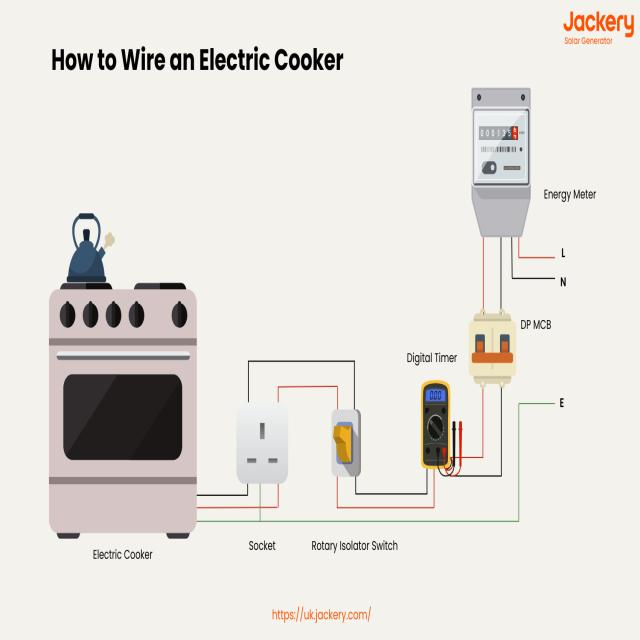appliances: (49, 283, 196, 537), (67, 213, 114, 281)
electronics: (472, 89, 530, 236), (236, 402, 288, 483), (474, 110, 528, 185), (468, 309, 515, 387), (421, 380, 450, 468), (331, 409, 361, 476), (563, 11, 633, 37), (199, 46, 270, 71), (274, 48, 323, 71), (333, 422, 353, 464), (407, 352, 457, 364), (323, 53, 343, 71), (565, 37, 611, 44), (267, 56, 268, 59)
